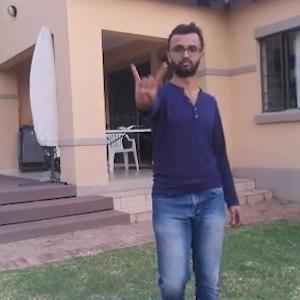takeoff-hand: (126, 55, 173, 110)
